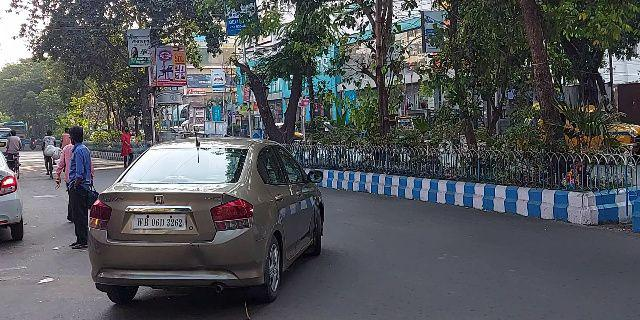Car: (87, 131, 330, 308)
